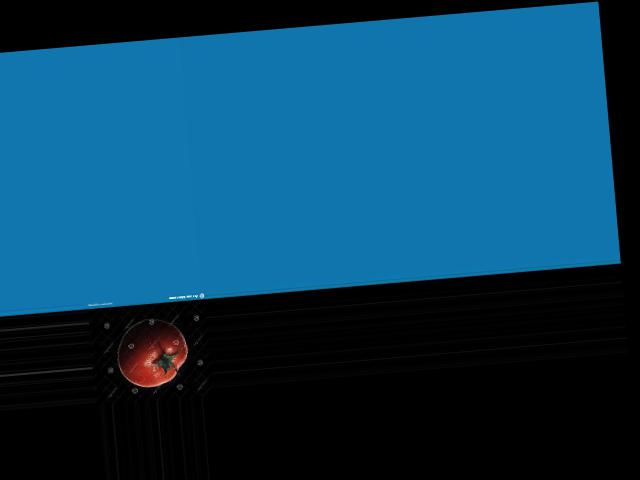tomato: (113, 316, 190, 389)
